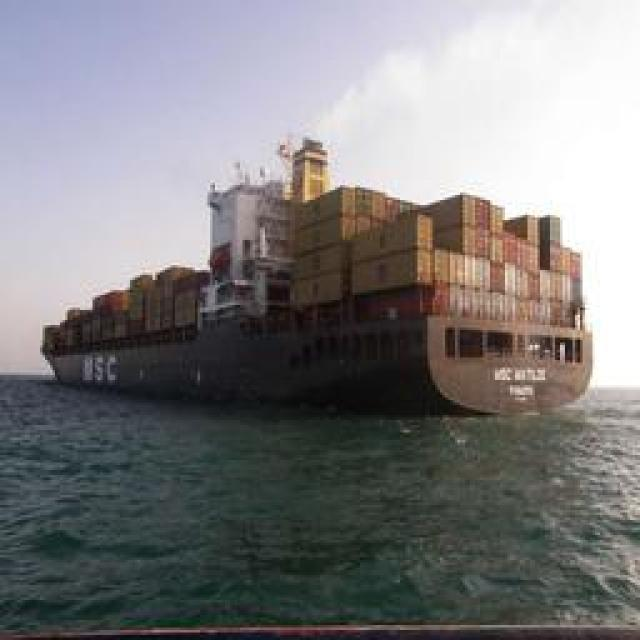ship2: (41, 134, 593, 418)
